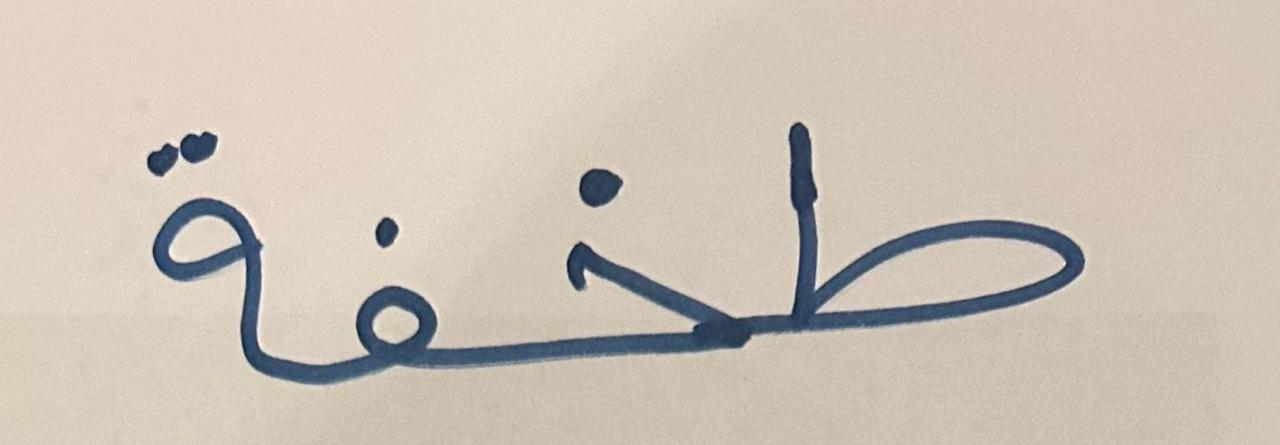feh: (314, 157, 468, 419)
lam: (472, 108, 763, 412)
teh: (766, 61, 1146, 393)
thal: (108, 84, 311, 410)
